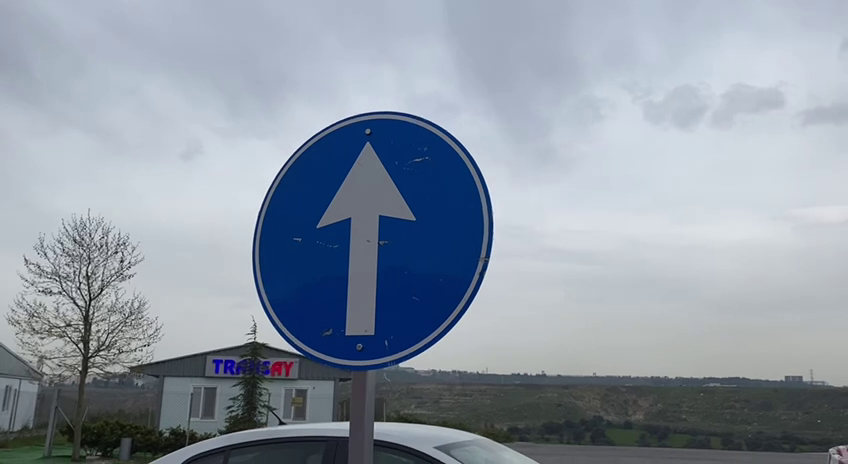forward: (242, 105, 503, 374)
